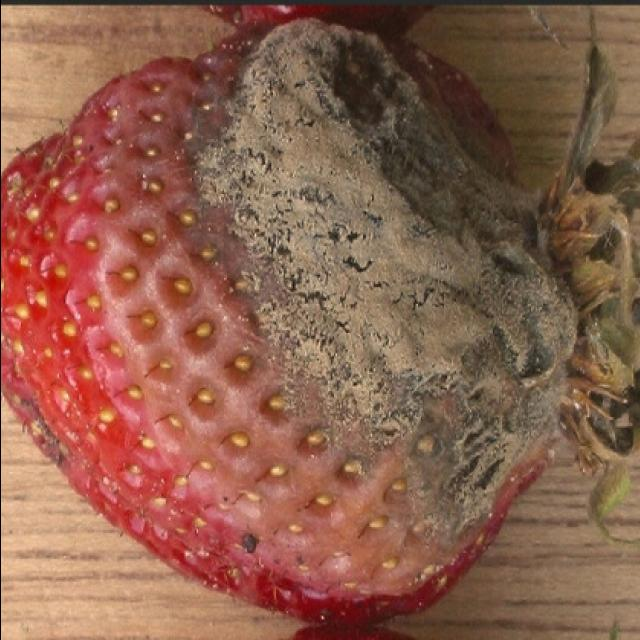Gray Mold: (2, 14, 640, 602)
